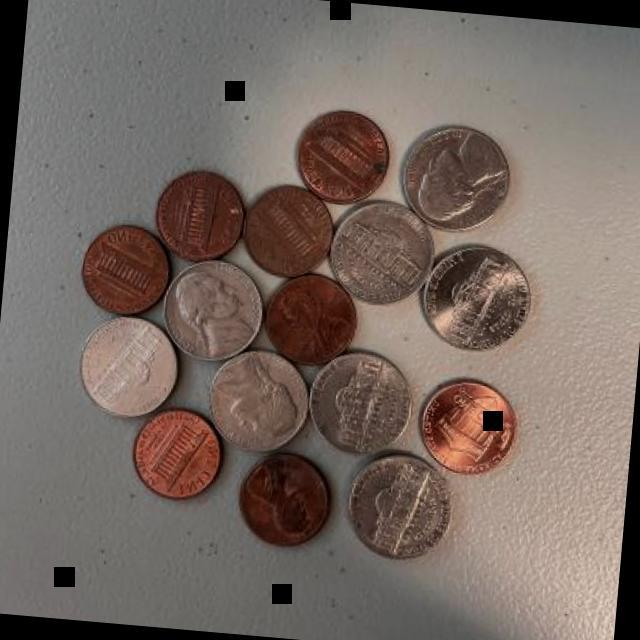Nickel: (418, 235, 534, 362), (393, 116, 515, 232), (341, 450, 454, 564), (202, 342, 314, 456), (323, 196, 434, 310), (304, 346, 414, 458), (160, 254, 268, 368), (74, 310, 184, 420)
Penny: (414, 372, 522, 479), (290, 102, 392, 210), (234, 447, 334, 552), (125, 404, 228, 504), (147, 165, 247, 266), (236, 180, 335, 280), (73, 220, 174, 316), (260, 270, 358, 368)
